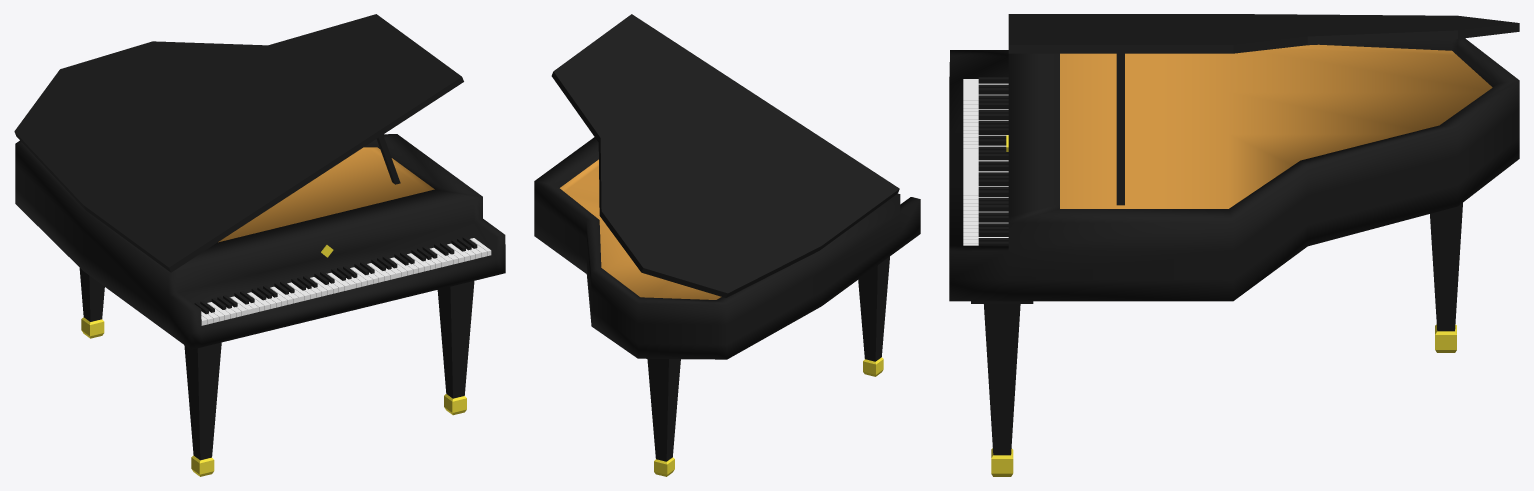
File: piano.glb
3 renders of one model, left to right at view 1: azimuth 30°, elevation 25°; view 2: azimuth 150°, elevation 25°; view 3: azimuth 270°, elevation 25°, orthographic. The views are drawn at different scales.
Visible parts, largest first — view 1: Piano_Body; view 2: Piano_Body; view 3: Piano_Body.
Part boxes in pixels (x1=…): Piano_Body: x1=14, y1=14, x2=505, y2=476; Piano_Body: x1=534, y1=14, x2=920, y2=476; Piano_Body: x1=949, y1=14, x2=1519, y2=476.
Bounding box in the file's own units: 3.34 × 3.36 × 4.
